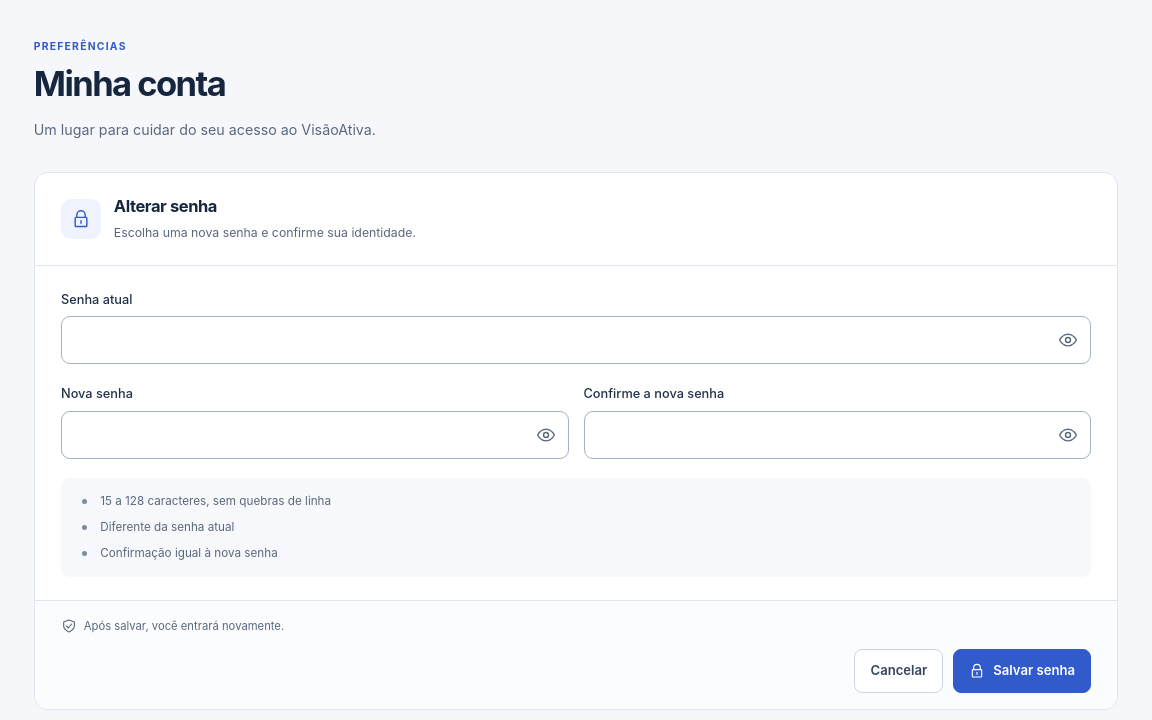
it: Minha conta › preserva a nova senha ao corrigir somente a atual e mantém os campos ocultos
Type "incorreta" into the password field with id "account-current-password" at x=554, y=340, box [62, 317, 1046, 363]
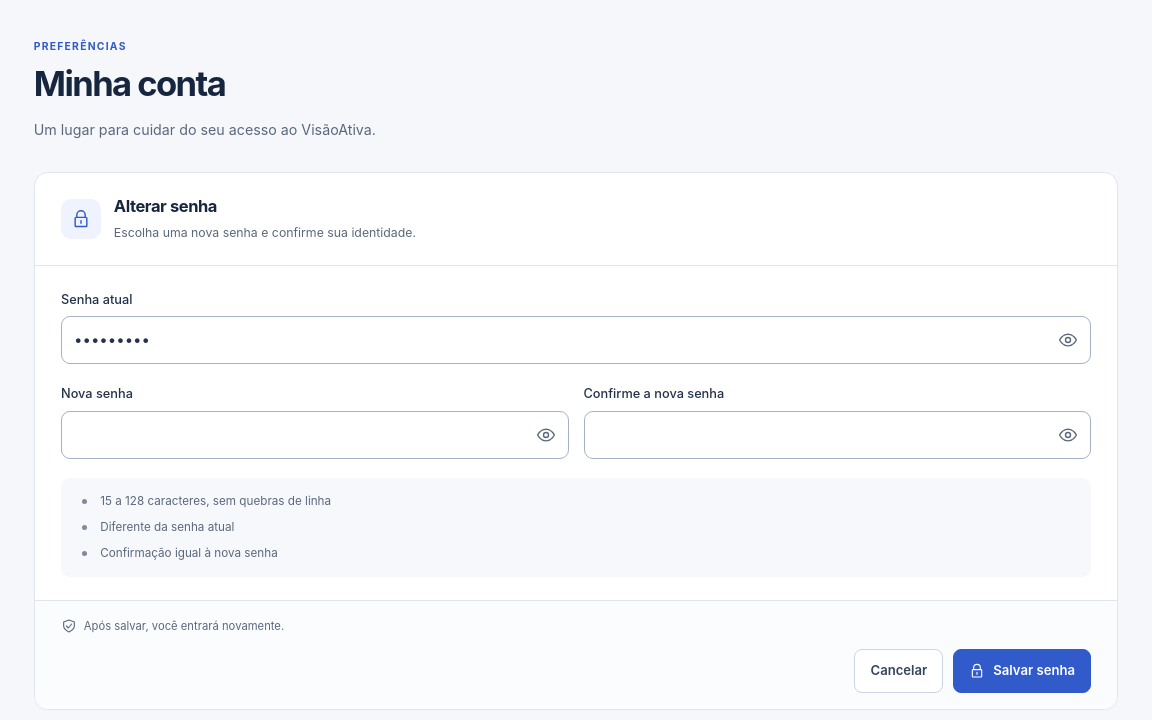
Type "nova frase sintética para teste 456" into the password field with id "account-password" at x=293, y=435, box [62, 412, 524, 458]
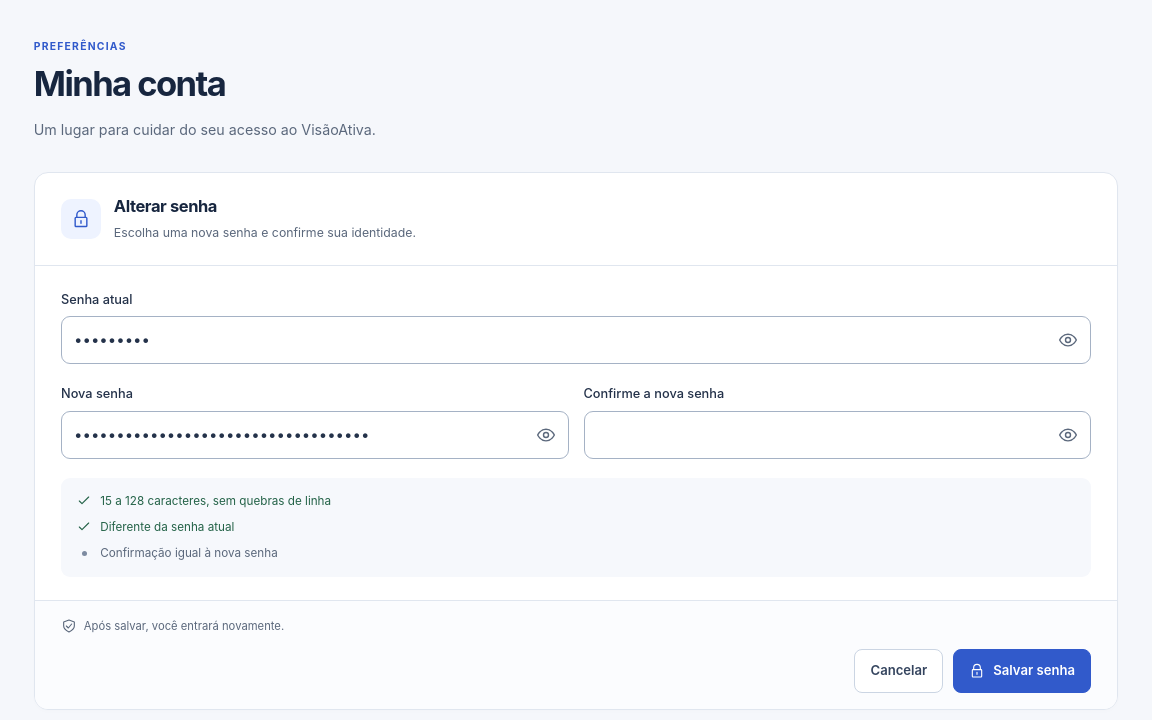
Type "nova frase sintética para teste 456" into the password field with id "account-confirmation" at x=815, y=435, box [584, 412, 1046, 458]
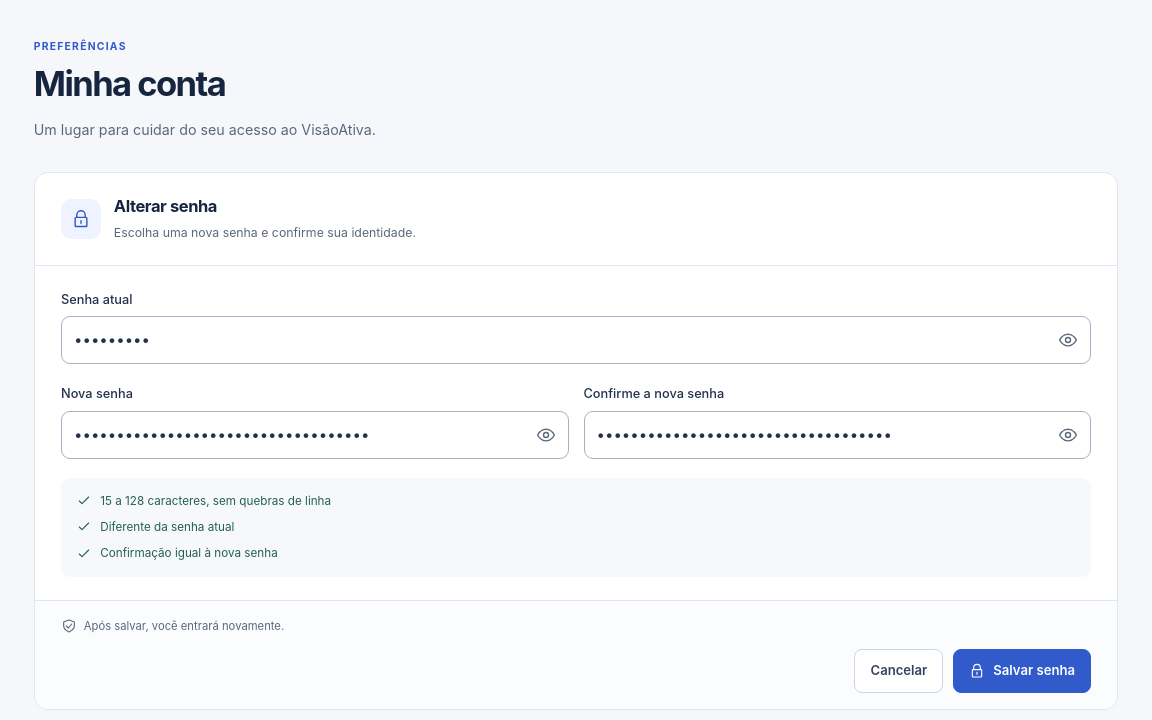
Click the button named "Mostrar nova senha" at x=546, y=435, box [524, 413, 568, 457]
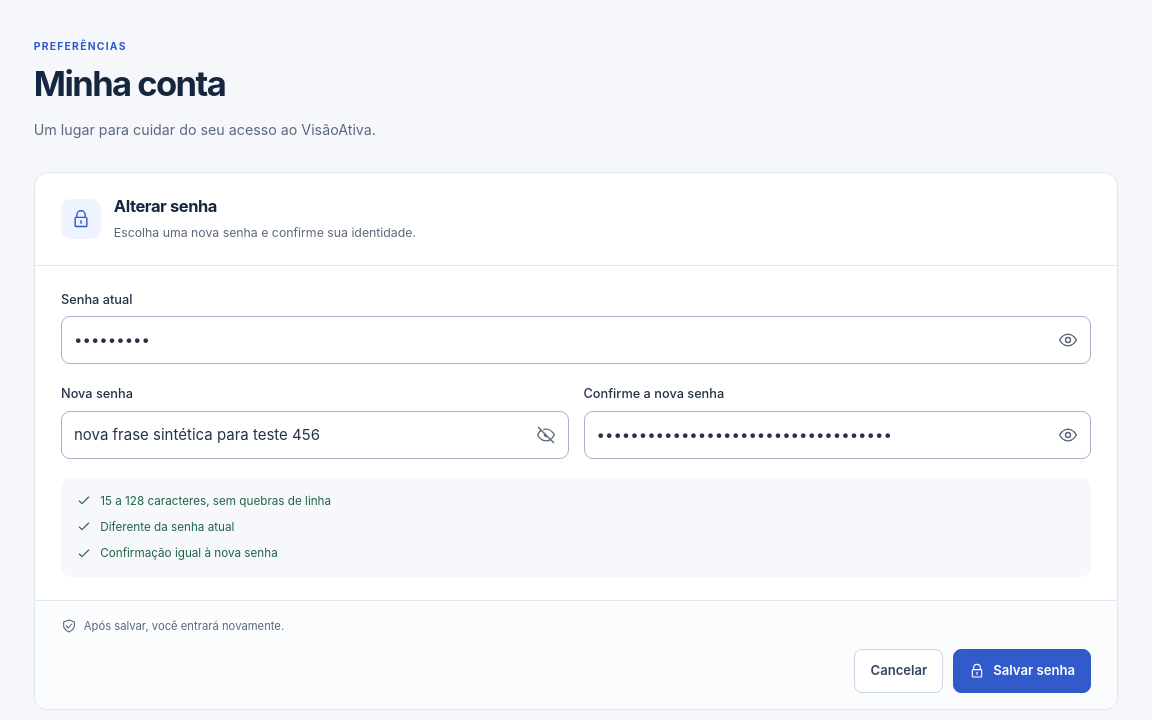
Submit the form, box [35, 266, 1117, 709]
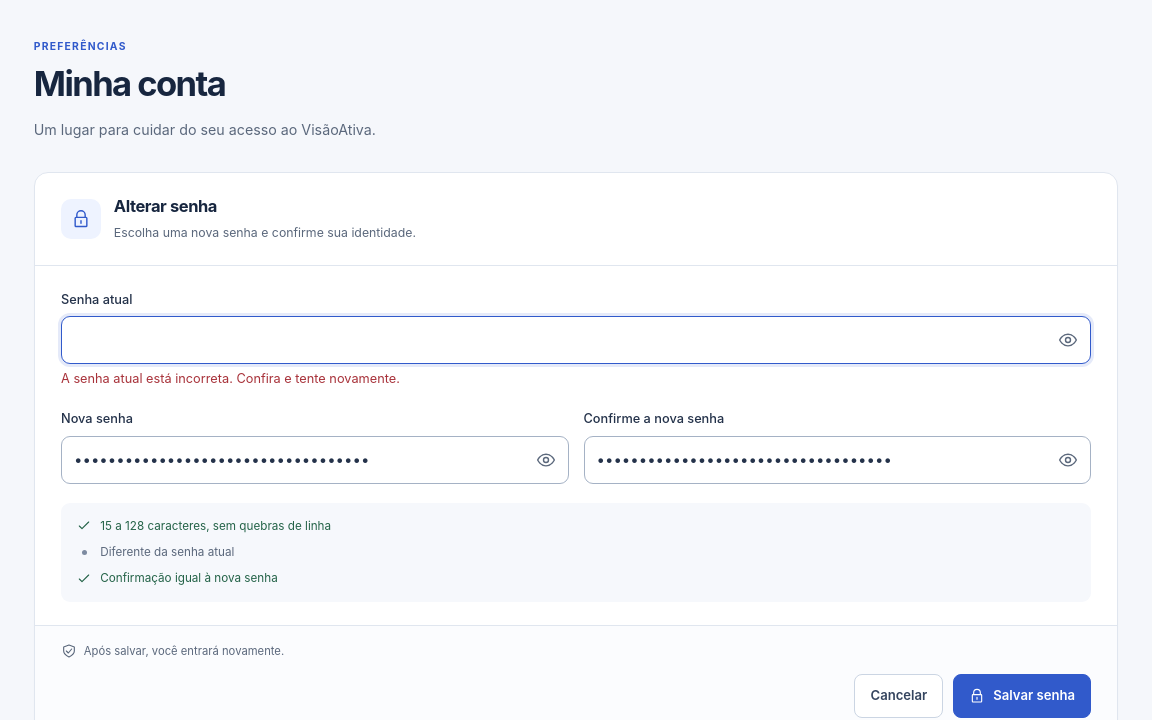
Result: the message with id "account-current-error" shows "incorreta" at [61, 371, 400, 386]
